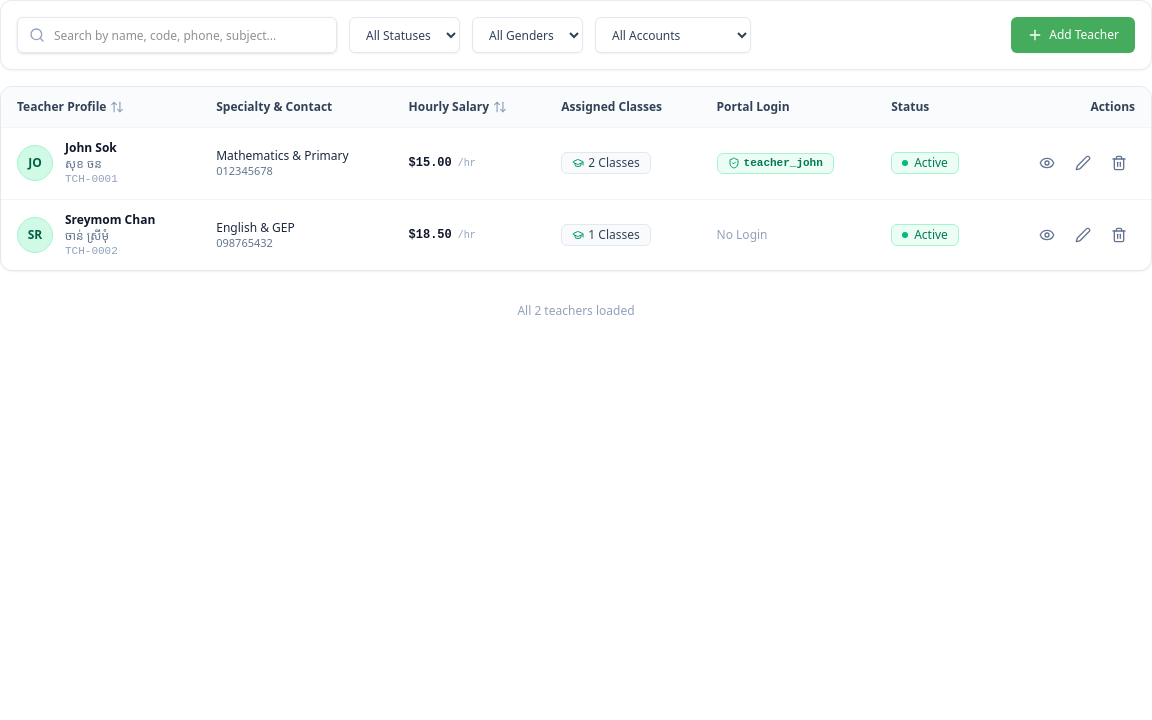
it: TeacherListTable › opens teacher detail dialog when clicking teacher name
The width and height of the screenshot is (1152, 720).
Click the button "John Sok".
click(91, 148)  # box [65,140,117,156]
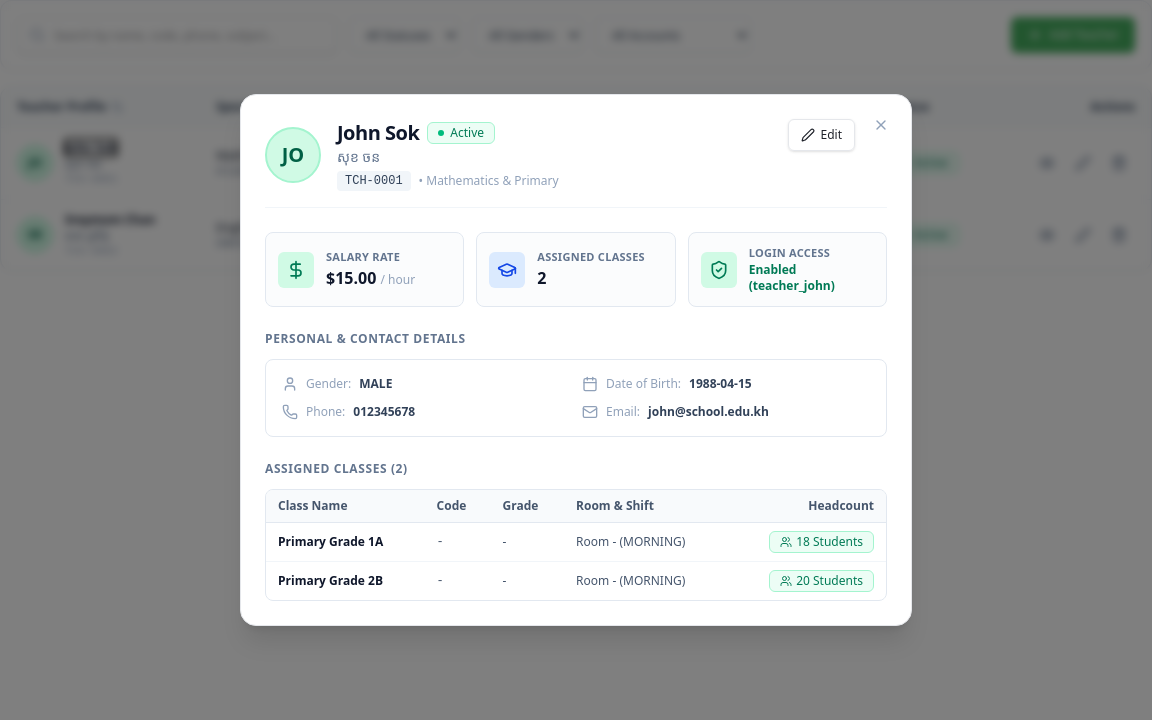
Now the text "Primary Grade 1A" is shown, box [266,522,425,561]
Now the text "18 Students" is shown, box [769,531,874,553]
